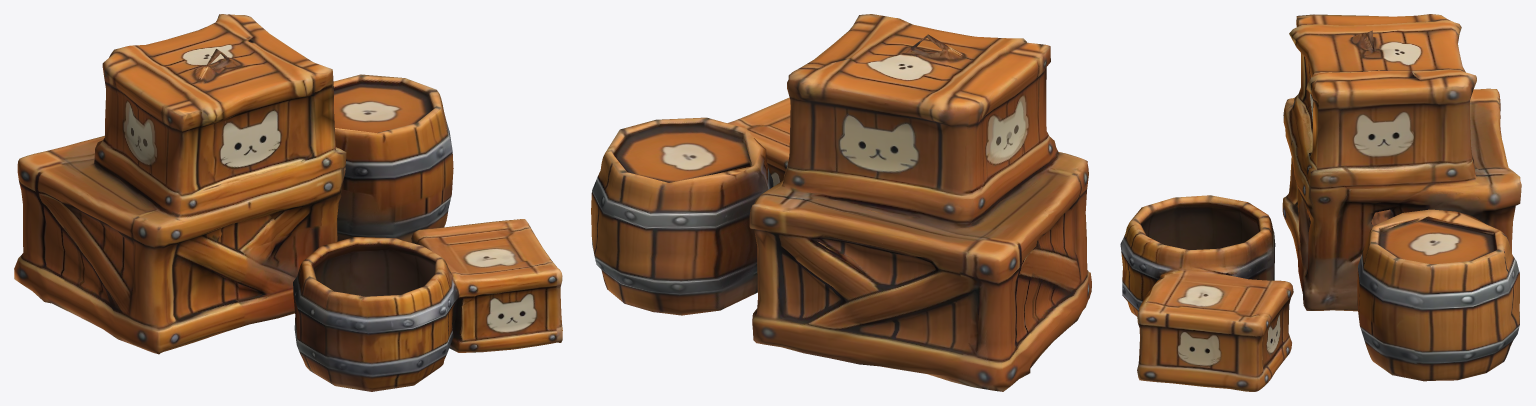
Rendered from crates.glb.
3 renders of one model, left to right at view 1: azimuth 30°, elevation 25°; view 2: azimuth 150°, elevation 25°; view 3: azimuth 270°, elevation 25°, orthographic. The views are drawn at different scales.
Bounding box in the file's own units: 2 × 1.27 × 1.84.
Materials: 1 (1 with a texture image).
